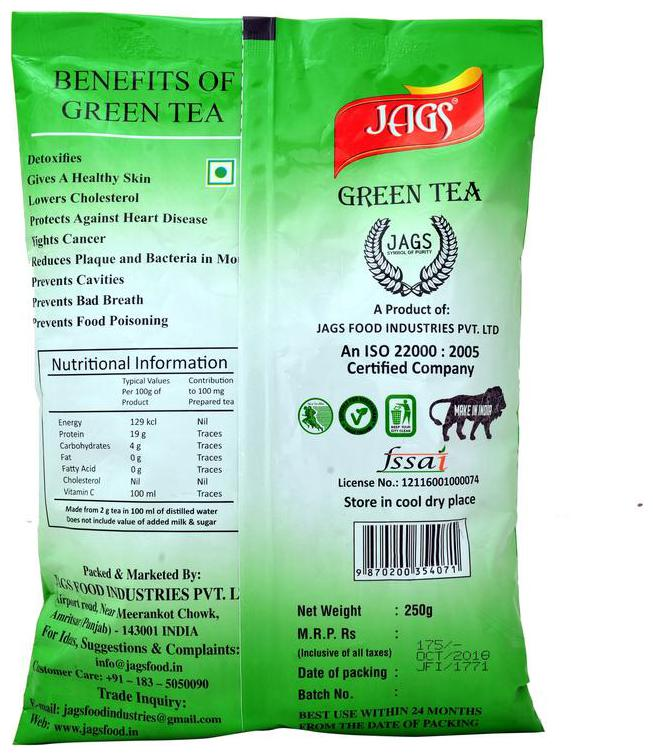fssai: (375, 445, 452, 474)
